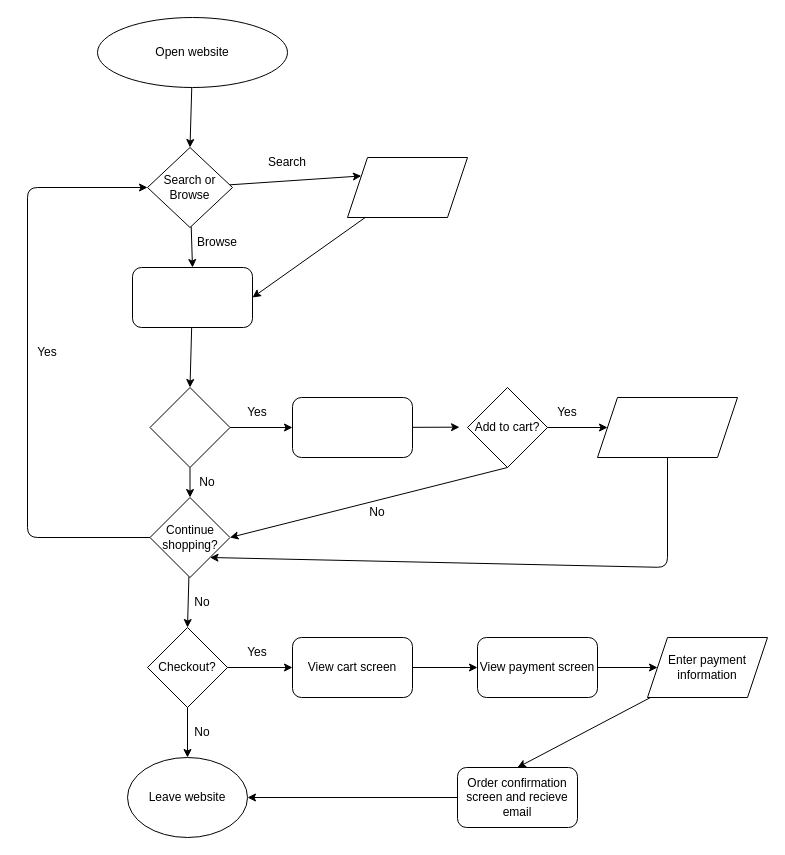
Some shapes in this 785 by 855 pixel diagram are drawn without their labels. Here are the shapes that lost their labels. From the top down, the centre of each, then its label:
point 407,187: Enter product name
point 192,297: Look at the products
point 189,427: View a specific product?
point 352,427: Webpage for the product shows up
point 667,427: Confirmation pops up
